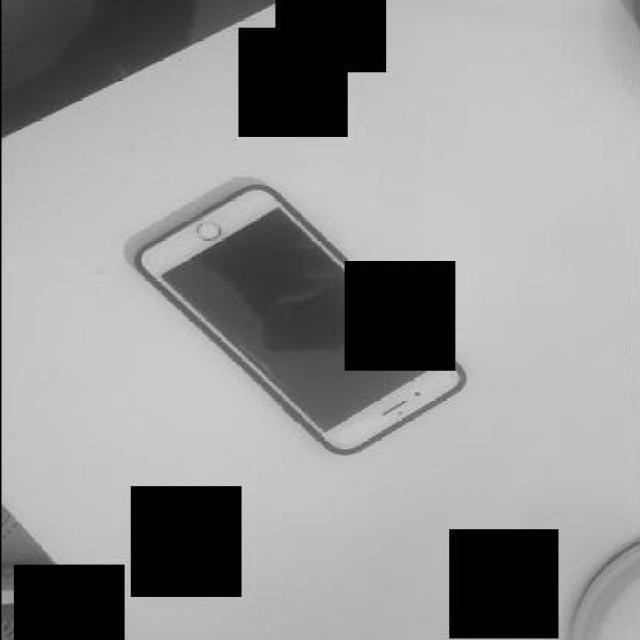fake: (129, 184, 466, 461)
